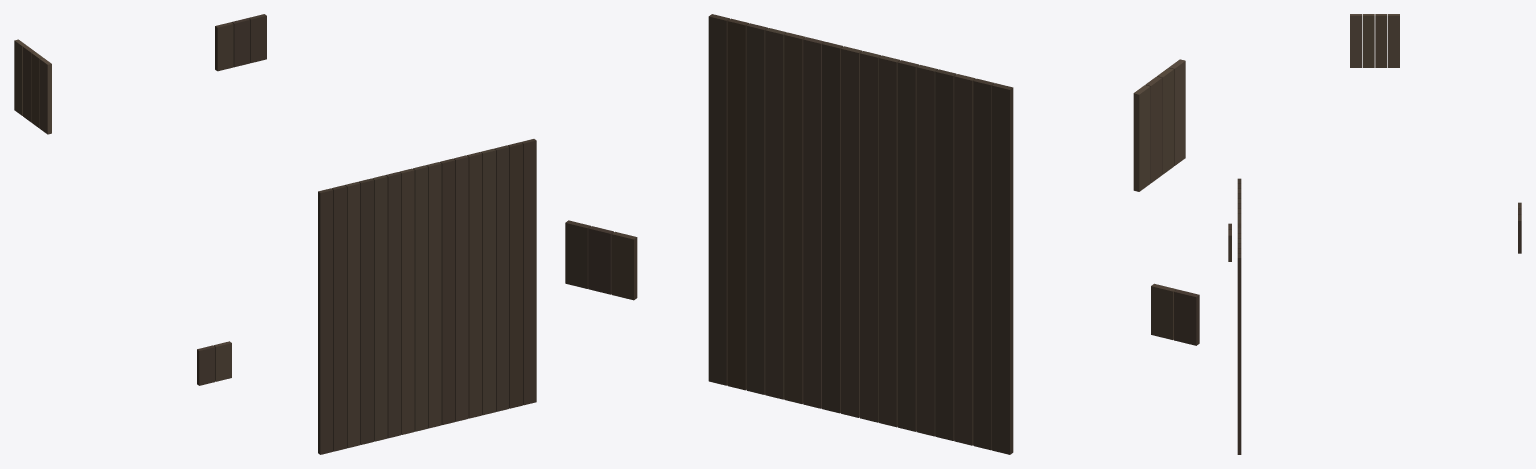
Rendered from SM_Bld_000_Wood.glb.
3 views of the same model, side by side, from view 1: azimuth 30°, elevation 25°; view 2: azimuth 150°, elevation 25°; view 3: azimuth 270°, elevation 25° (orthographic). The views are drawn at different scales.
Parts seen in each view (by area): view 1: SM_Bld_000_Wood; view 2: SM_Bld_000_Wood; view 3: SM_Bld_000_Wood.
Boxes of the visible parts, x1,y1,x2,y2 form: SM_Bld_000_Wood: (14,14,536,454); SM_Bld_000_Wood: (565,14,1199,454); SM_Bld_000_Wood: (1228,14,1521,454).
Size of the model in its own units: 4.97 by 4.4 by 4.05.
